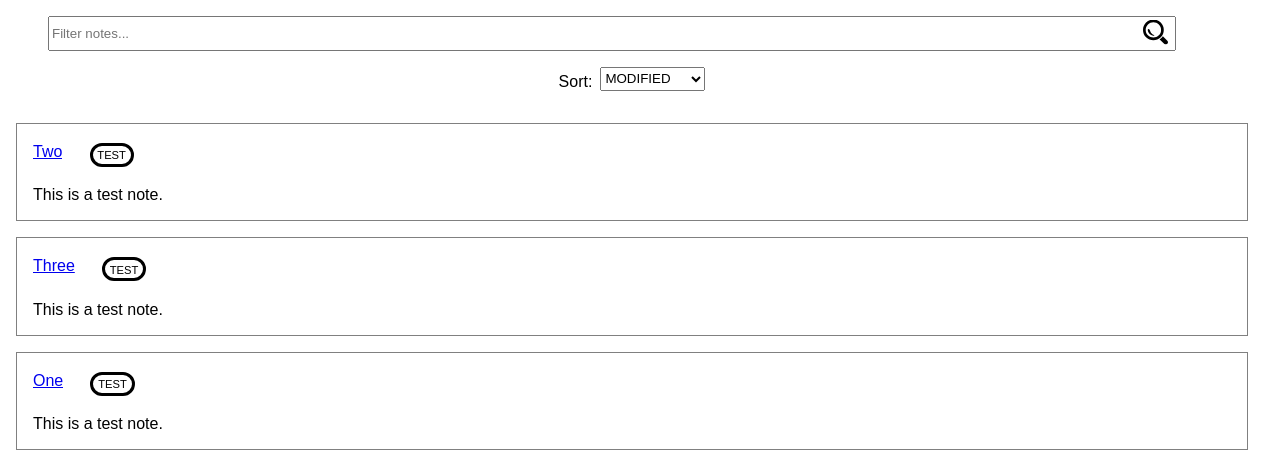
it: List › applies a new sort rule on the first selection
Select "CREATED" in the dropdown labelled "Sort:" at (653, 79), box [600,67,705,91]
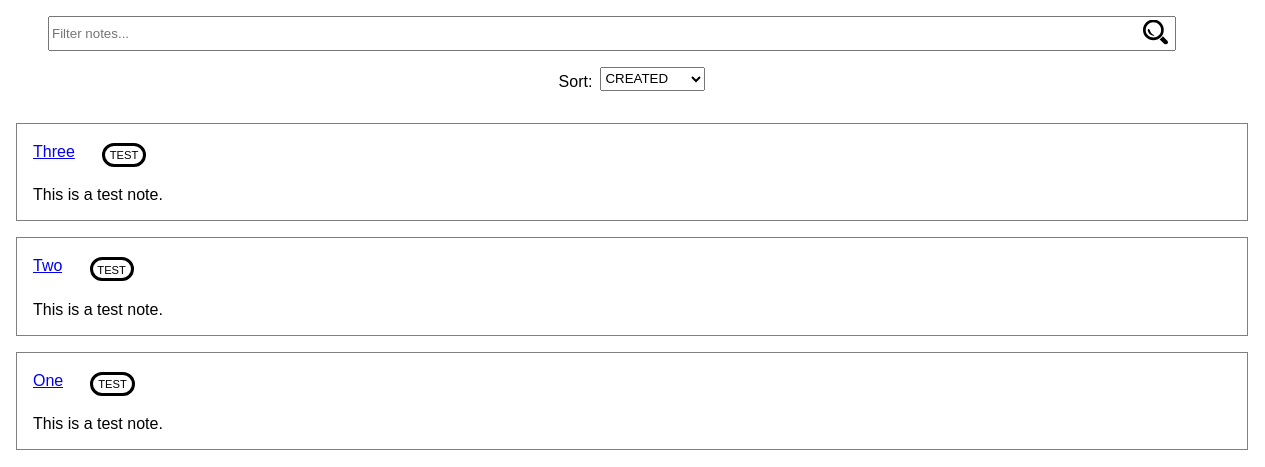
Result: the dropdown labelled "Sort:" shows "CREATED" at [600,67,705,91]
